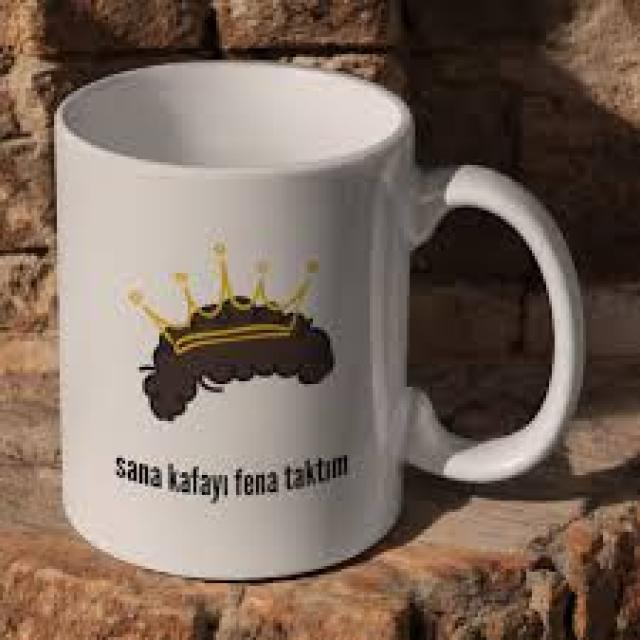taza: (55, 60, 585, 582)
